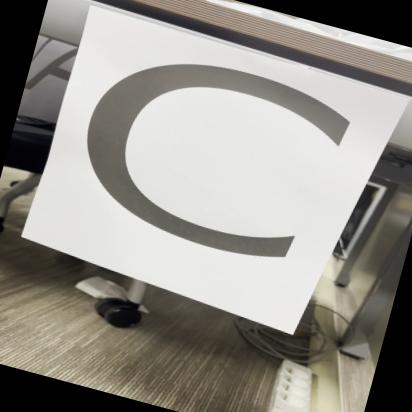seat: (35, 10, 386, 337)
